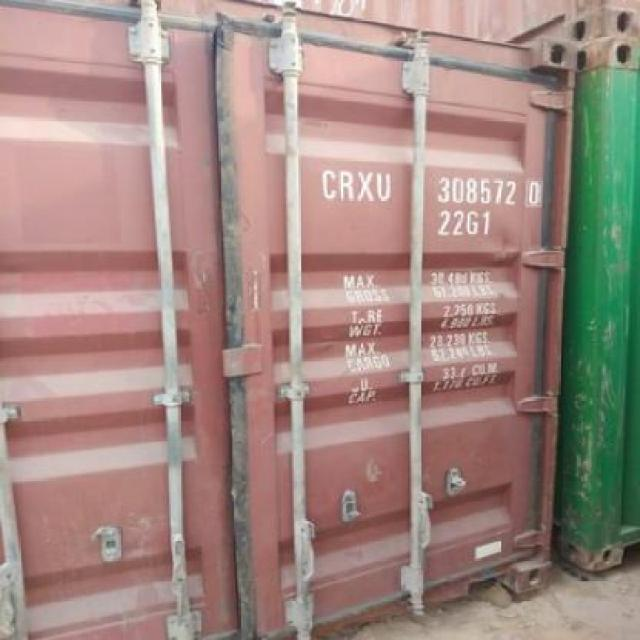ISO: (436, 211, 492, 237)
container_number: (310, 170, 548, 205)
